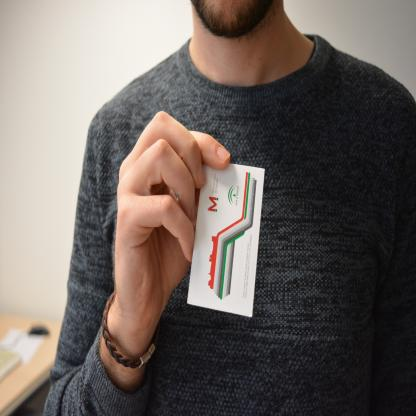tarjeta: (186, 160, 265, 318)
